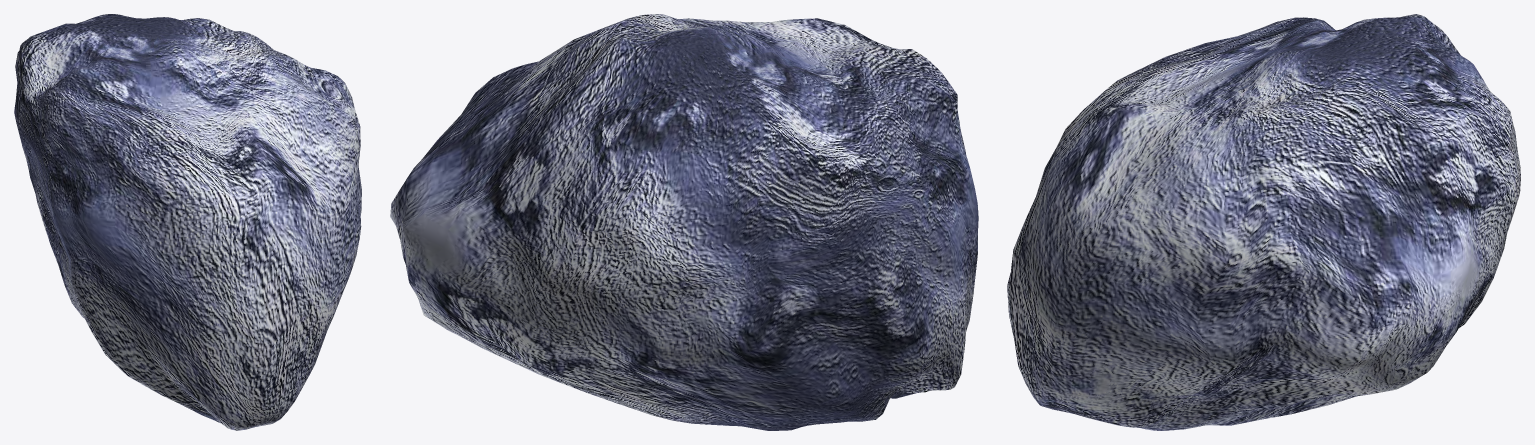
The model's file is asteroid2.FBX.
3 views of the same model, side by side, from view 1: azimuth 30°, elevation 25°; view 2: azimuth 150°, elevation 25°; view 3: azimuth 270°, elevation 25° (orthographic). The views are drawn at different scales.
Visible parts, largest first — view 1: Asteroid; view 2: Asteroid; view 3: Asteroid.
Boxes of the visible parts, x1,y1,x2,y2 form: Asteroid: (14,14,361,430); Asteroid: (390,14,978,430); Asteroid: (1007,14,1520,430).
Size of the model in its own units: 276 by 244 by 306.
1 material, 1 textured.
